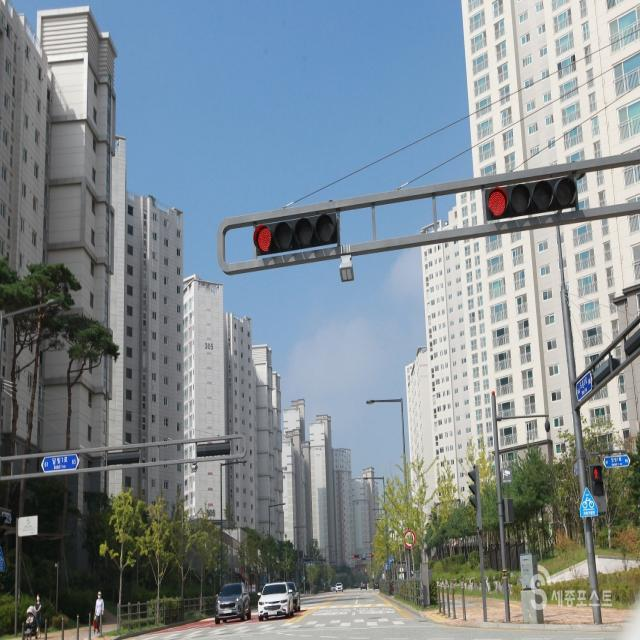Red Light: (254, 219, 274, 258), (487, 188, 507, 217)
